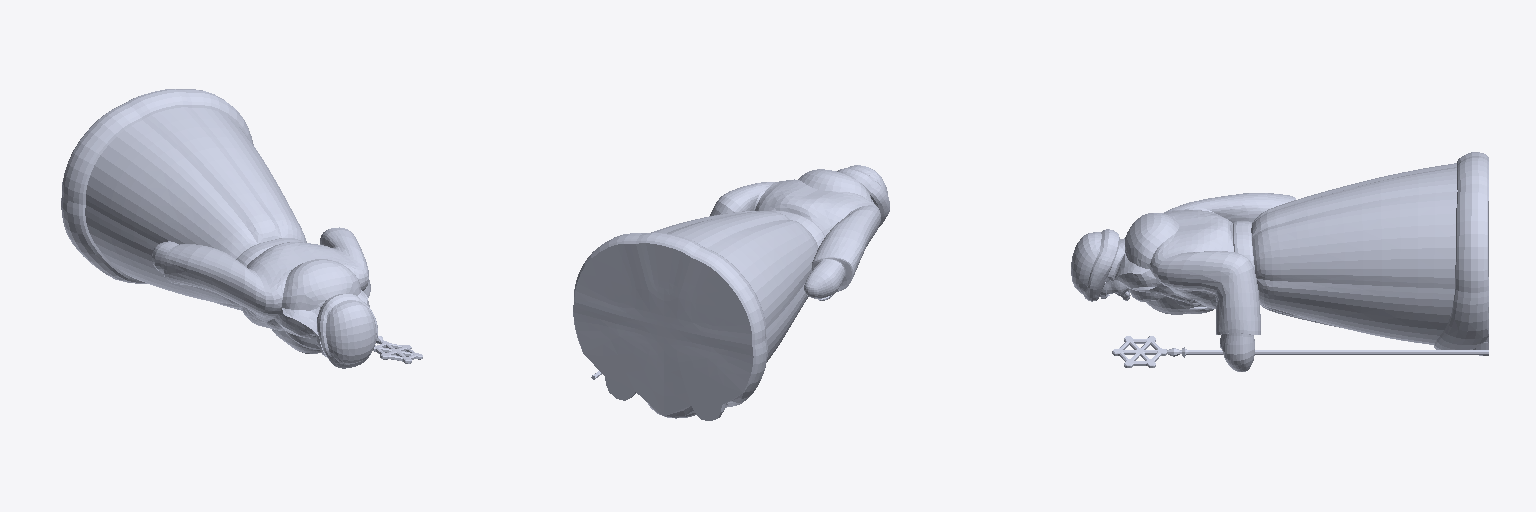
The model's file is FatherFrost.obj.
3 views of the same model, side by side, from view 1: azimuth 30°, elevation 25°; view 2: azimuth 150°, elevation 25°; view 3: azimuth 270°, elevation 25° (orthographic).
Visible parts, largest first — view 1: Father_Frost, Staff; view 2: Father_Frost; view 3: Father_Frost, Staff.
Part boxes in pixels (left/top/right/bottom): Father_Frost: left=61, top=89, right=377, bottom=368; Staff: left=373, top=336, right=422, bottom=363; Father_Frost: left=573, top=165, right=889, bottom=420; Father_Frost: left=1071, top=152, right=1488, bottom=371; Staff: left=1112, top=336, right=1488, bottom=367.
Size of the model in its own units: 42.84 by 39.57 by 82.57.